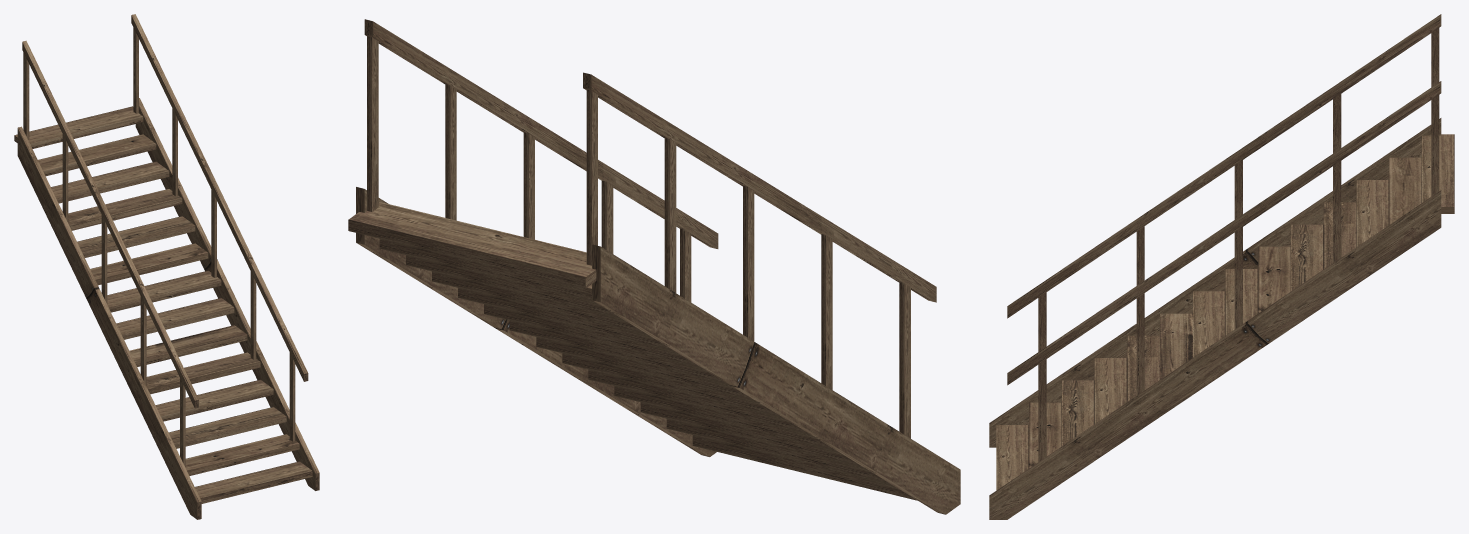
The model's file is standaloneStaircaseRight.dae.
3 views of the same model, side by side, from view 1: azimuth 30°, elevation 25°; view 2: azimuth 150°, elevation 25°; view 3: azimuth 270°, elevation 25° (orthographic). The views are drawn at different scales.
Parts seen in each view (by area): view 1: Staircase; view 2: Staircase; view 3: Staircase.
Part boxes in pixels (left/top/right/bottom): Staircase: left=14, top=14, right=319, bottom=519; Staircase: left=348, top=19, right=960, bottom=514; Staircase: left=989, top=14, right=1454, bottom=519.
Bounding box in the file's own units: 1.44 × 3.9 × 3.79.
Materials: 1 (1 with a texture image).
